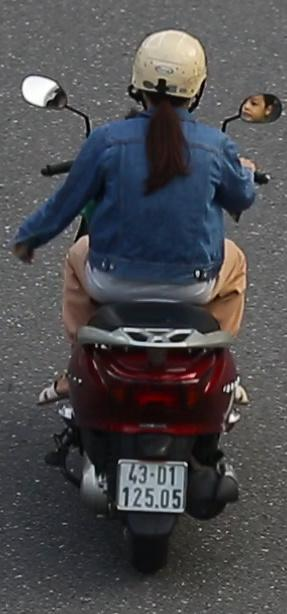LP: (114, 452, 191, 516)
helmet: (124, 26, 210, 126)
